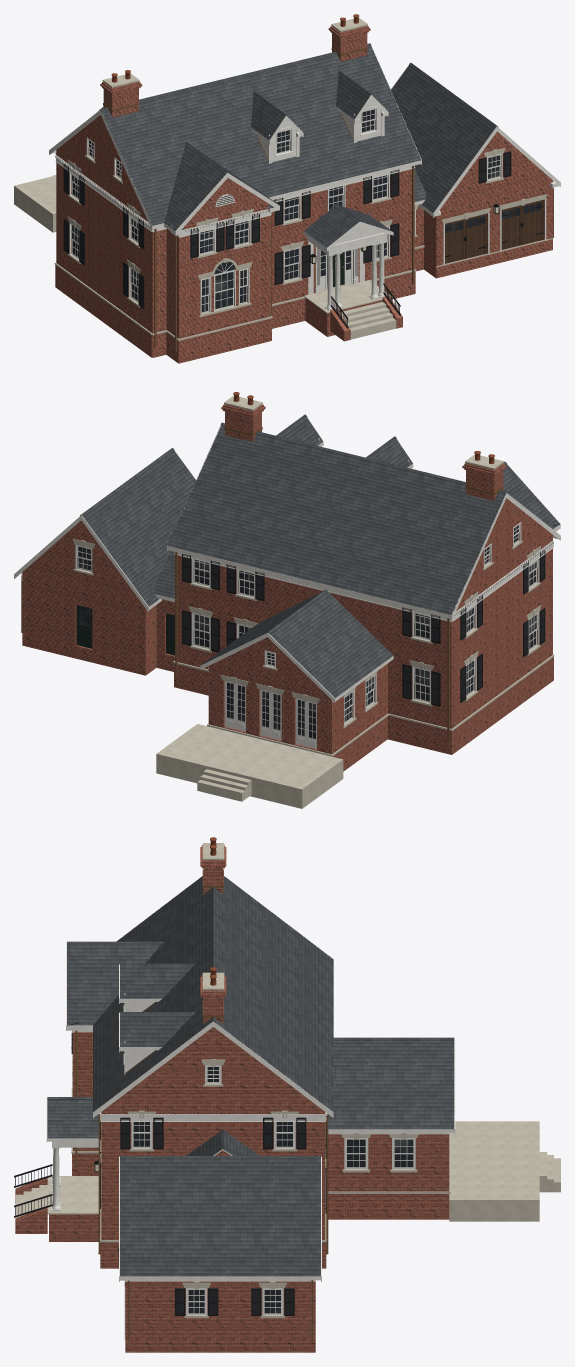
Rendered from thompson-house.glb.
3 views of the same model, one above another, from view 1: azimuth 30°, elevation 25°; view 2: azimuth 150°, elevation 25°; view 3: azimuth 270°, elevation 25° (orthographic). The views are drawn at different scales.
Visible parts, largest first — view 1: House, Roof, Portico; view 2: House, Roof, Portico; view 3: Roof, House, Portico.
Boxes of the visible parts, <box> form: House: <box>54,14,554,363</box>; Roof: <box>49,43,560,251</box>; Portico: <box>14,175,402,341</box>; House: <box>21,392,554,771</box>; Roof: <box>14,414,560,702</box>; Portico: <box>156,724,343,808</box>; Roof: <box>46,876,455,1281</box>; House: <box>71,837,450,1352</box>; Portico: <box>14,1121,560,1241</box>.
Bounding box in the file's own units: 23.72 × 13.25 × 22.97.
14 materials, 8 textured.
